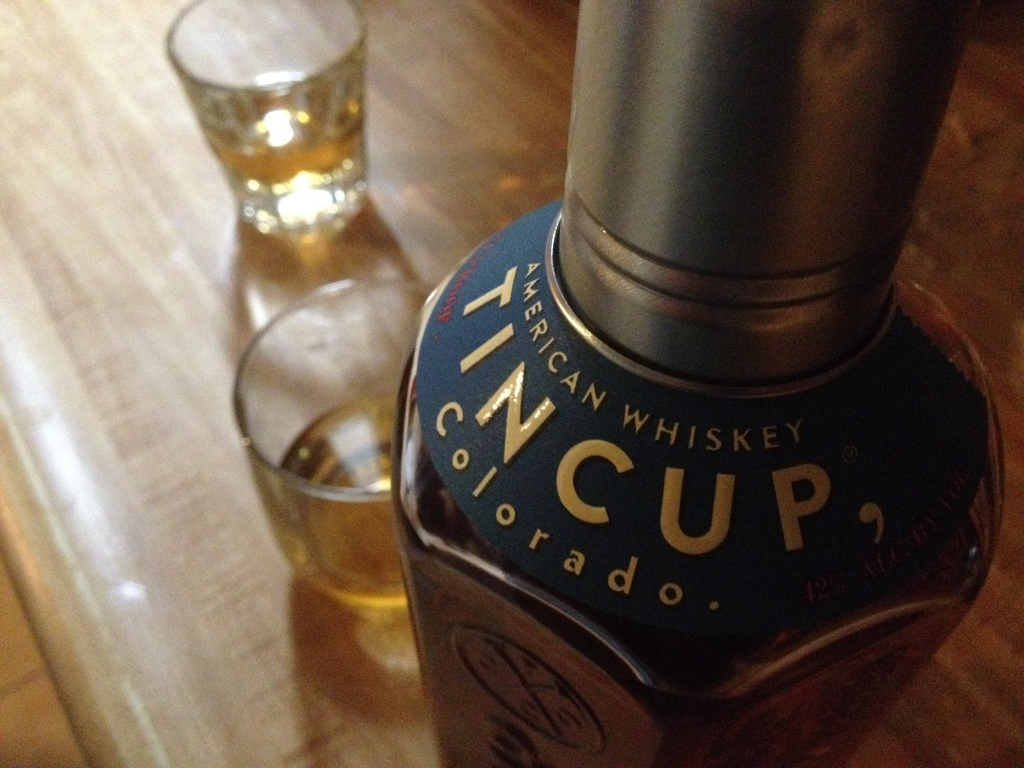can: (390, 0, 1005, 768)
